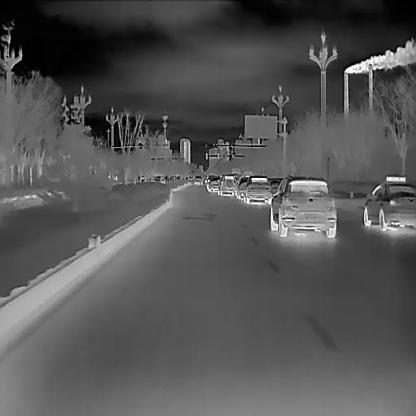car: (268, 174, 336, 238), (364, 173, 416, 230), (242, 173, 272, 203), (216, 172, 238, 195), (233, 176, 251, 199), (206, 173, 222, 192), (193, 173, 202, 185)
